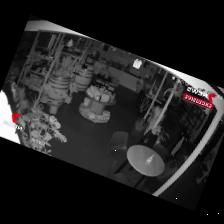person: (135, 81, 141, 93)
